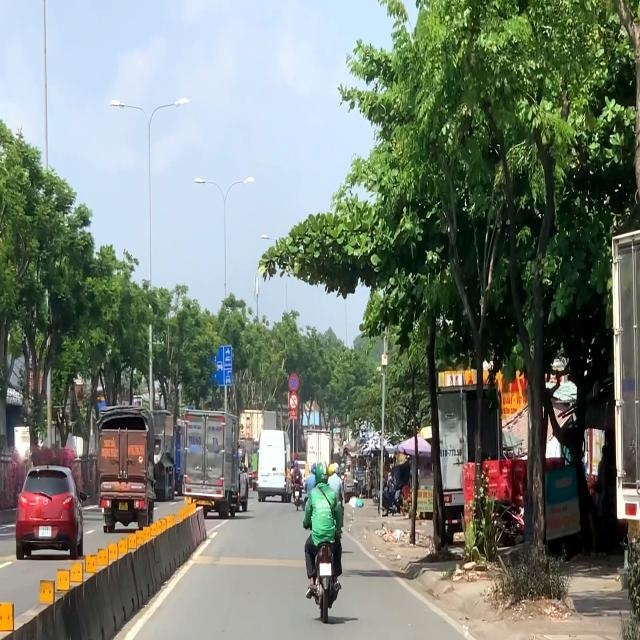bien_cam: (288, 373, 299, 392)
